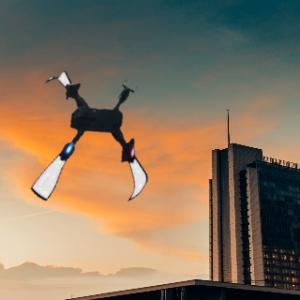drone: (19, 69, 171, 221)
